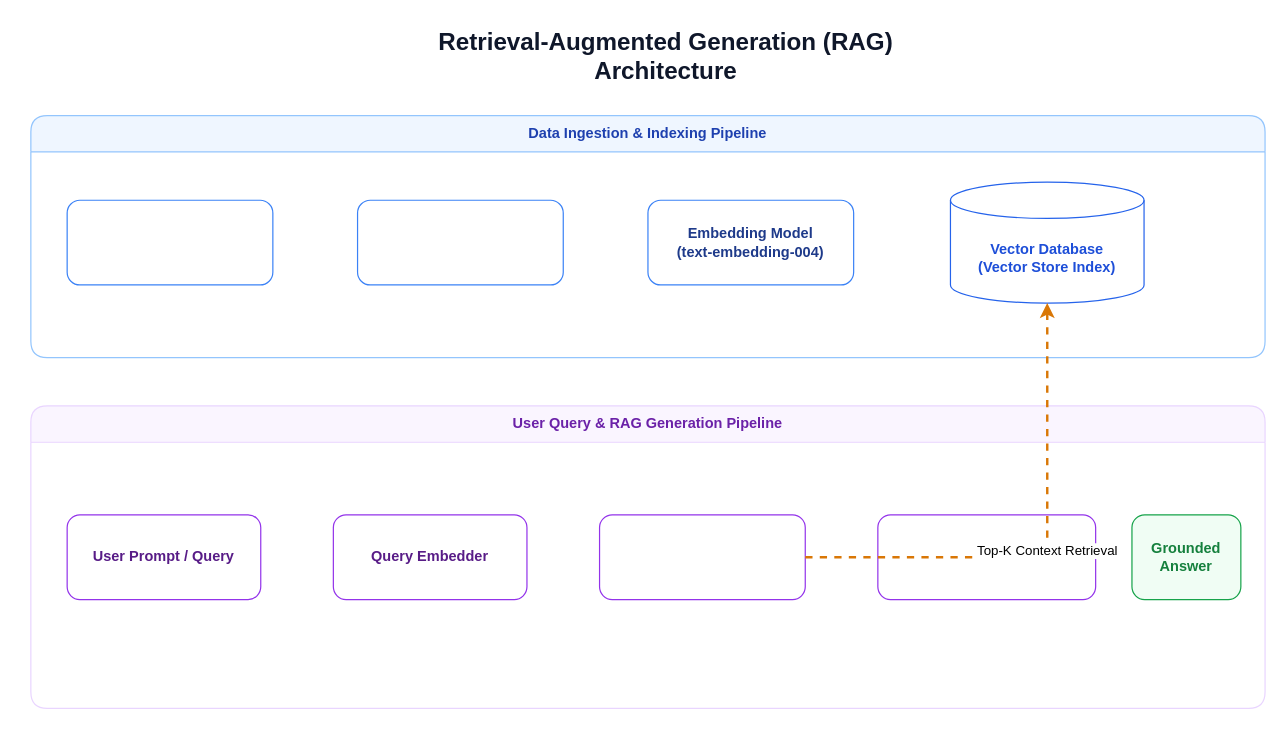
This 1286x730 diagram has some shape labels left out. Here are the shapes that lost their labels. From the top down, the centre of each, then its label:
At point 169,242: "Raw Document Sources (PDFs, Docs, Web, APIs)".
At point 459,242: "Text Extractor & Chunking Engine".
At point 701,557: "Semantic Similarity Search & Reranker".
At point 986,557: "LLM Synthesis Engine (Prompt + Retrieved Context)".
